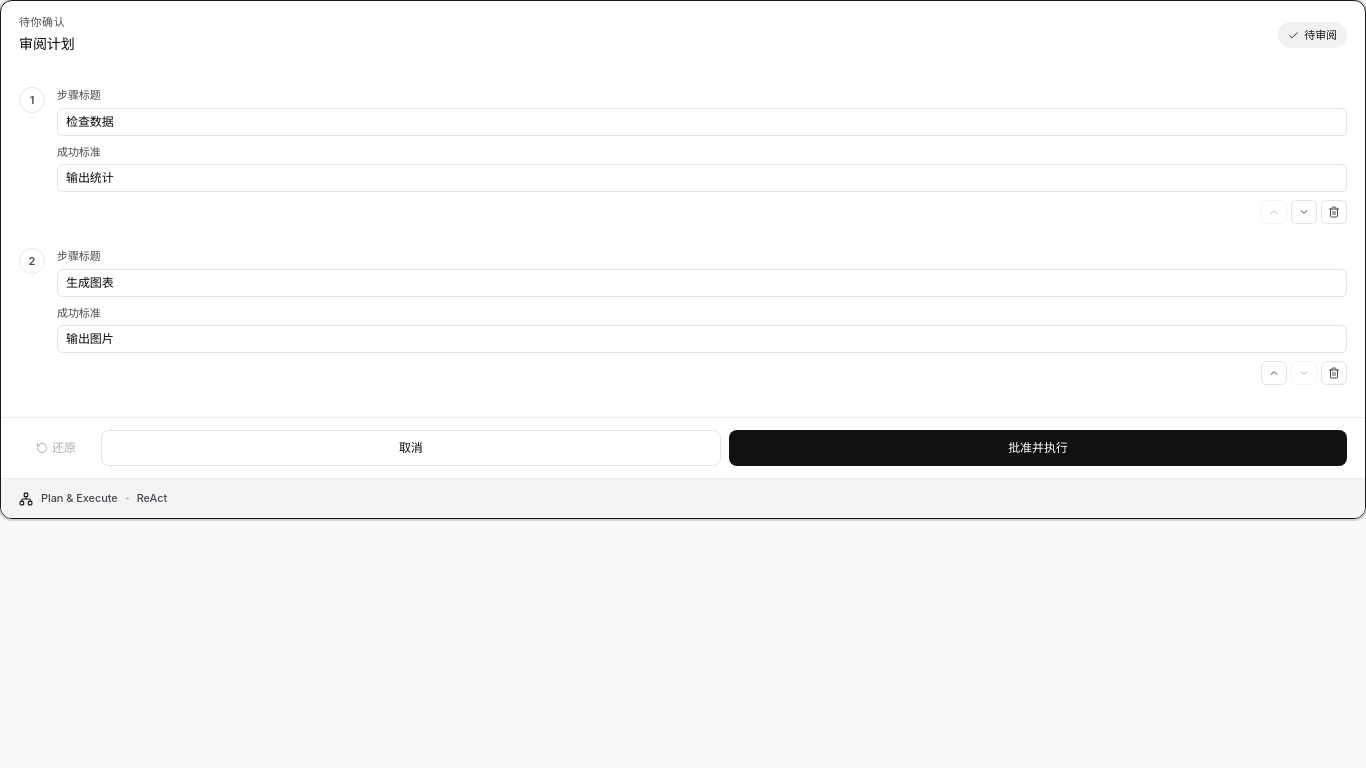
Test: PlanPanel › 审批模式支持上移 / 下移 / 删除 / 还原 / 取消
Later steps or results of the test are not shown.
Expected: the 1st button named "上移" is disabled, [1261, 200, 1287, 224]
Expected: the 2nd button named "下移" is disabled, [1291, 361, 1317, 385]
Step 1. Click the 1st button named "下移" → (1304, 212), box [1291, 200, 1317, 224]
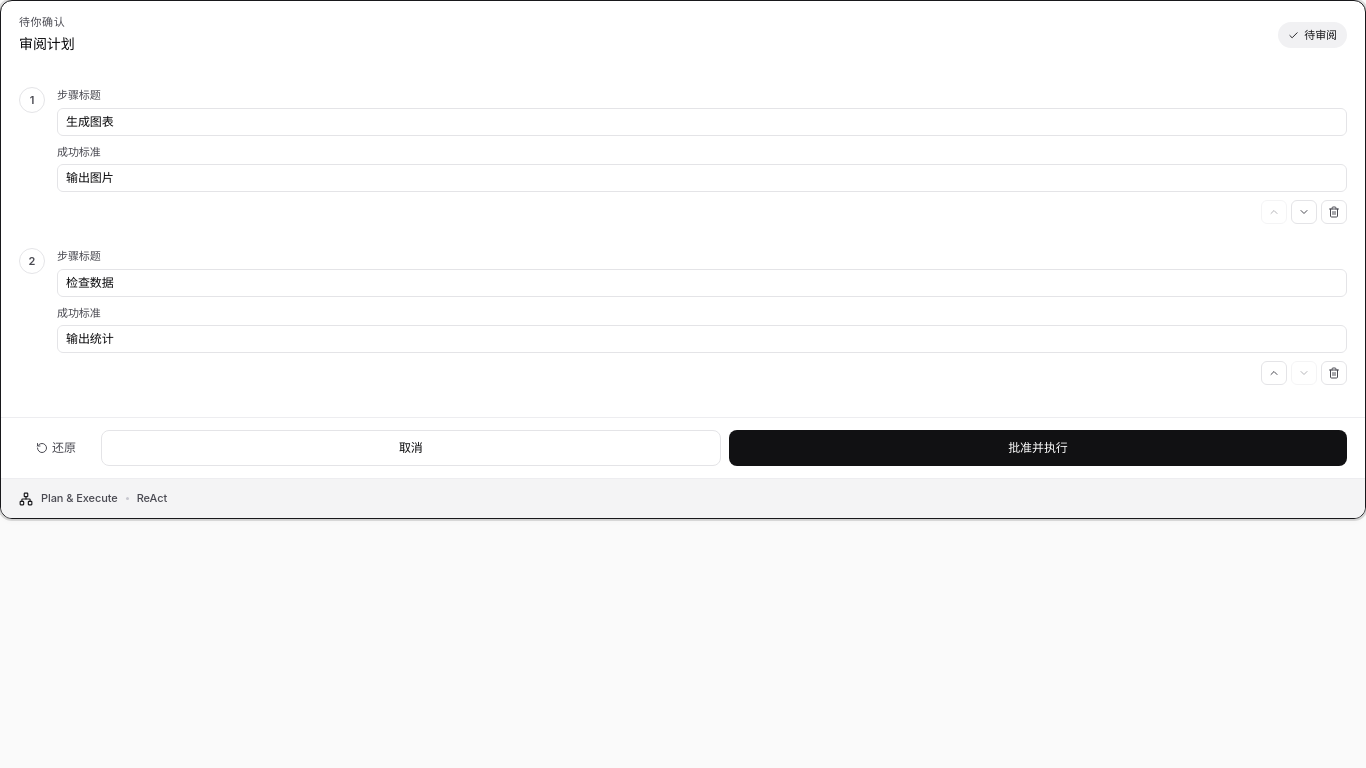
Result: the 1st field labelled "步骤标题" holds "生成图表" at [57, 108, 1347, 136]
// 还原回原始顺序，还原按钮随即禁用
Step 2. Click the button "还原" → (56, 448), box [19, 430, 93, 466]
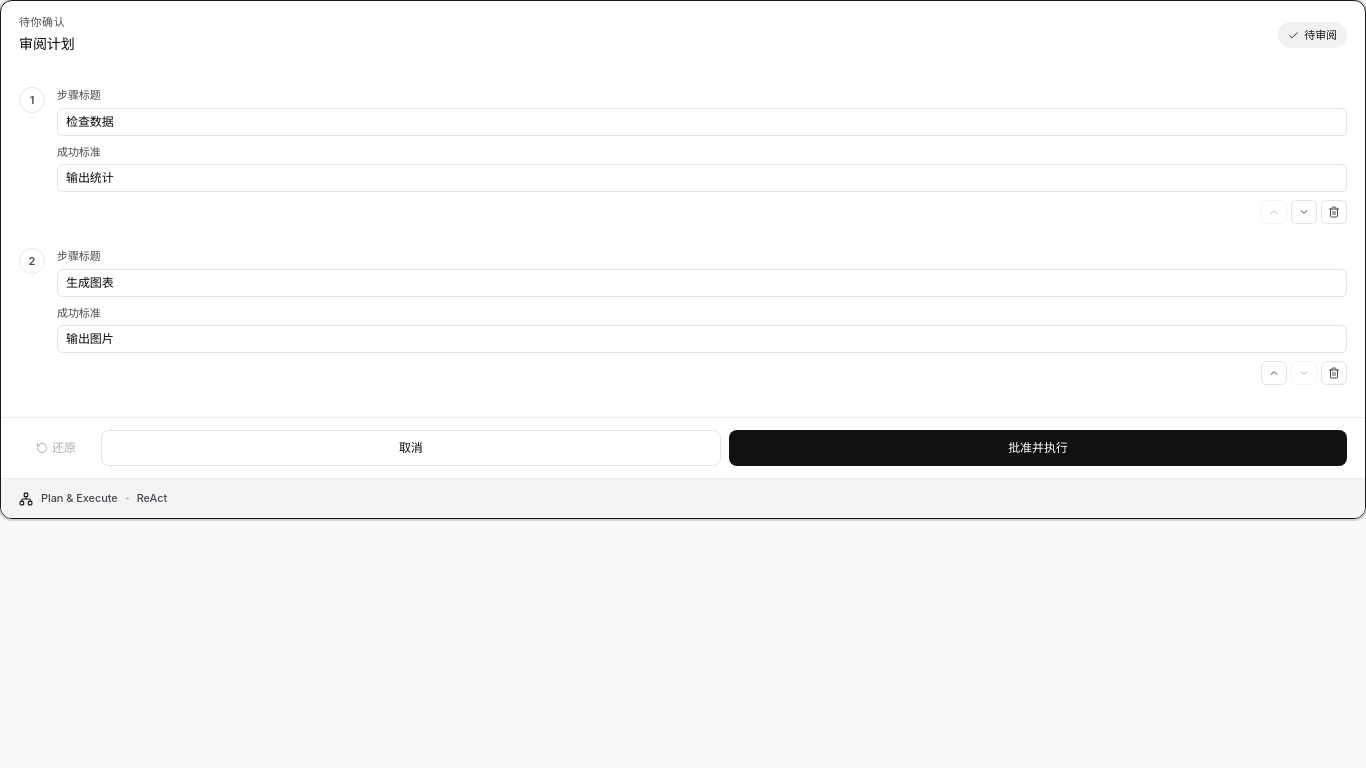
Result: the 1st field labelled "步骤标题" holds "检查数据" at [57, 108, 1347, 136]
Result: the button "还原" is disabled at [19, 430, 93, 466]
// 删除全部步骤后批准按钮禁用
Step 3. Click the 1st button named "删除" → (1334, 212), box [1321, 200, 1347, 224]
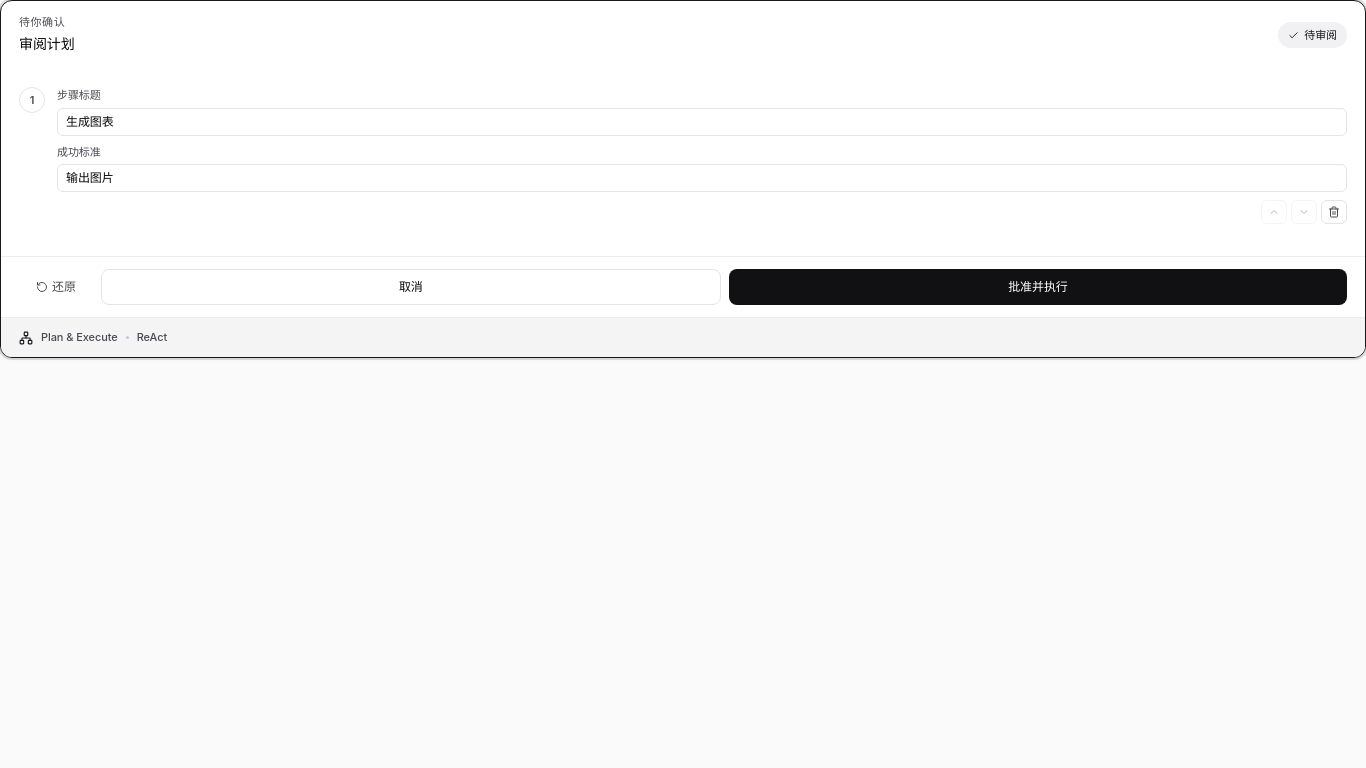
Step 4. Click the button named "删除" → (1334, 212), box [1321, 200, 1347, 224]
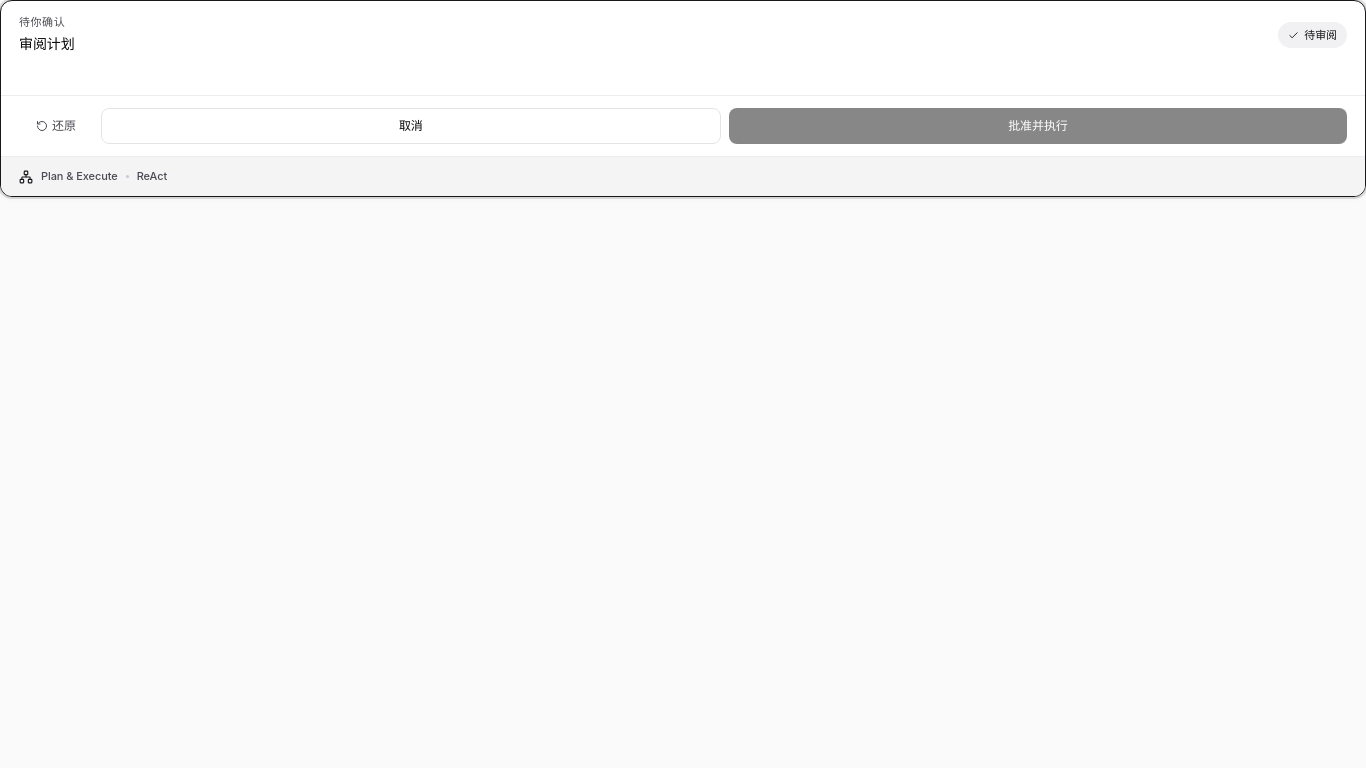
Result: no labels with class "step-edit-field" are shown
Result: the button "批准并执行" is disabled at [729, 108, 1347, 144]
